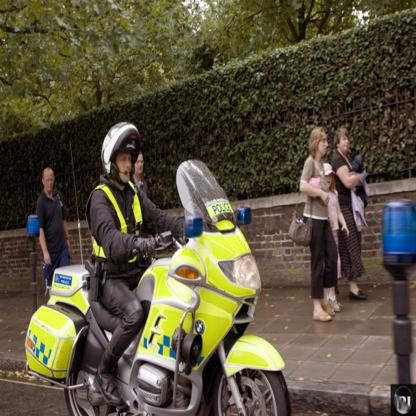Helmet: (100, 122, 142, 175)
